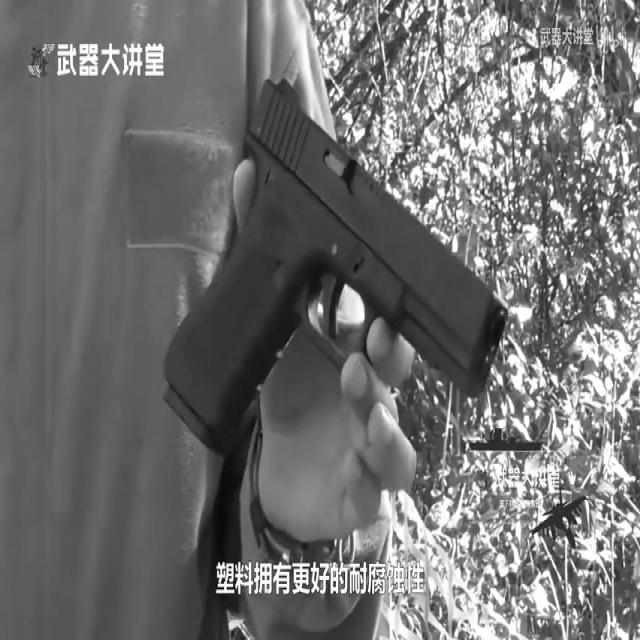Hand-Gun: (145, 34, 547, 568)
